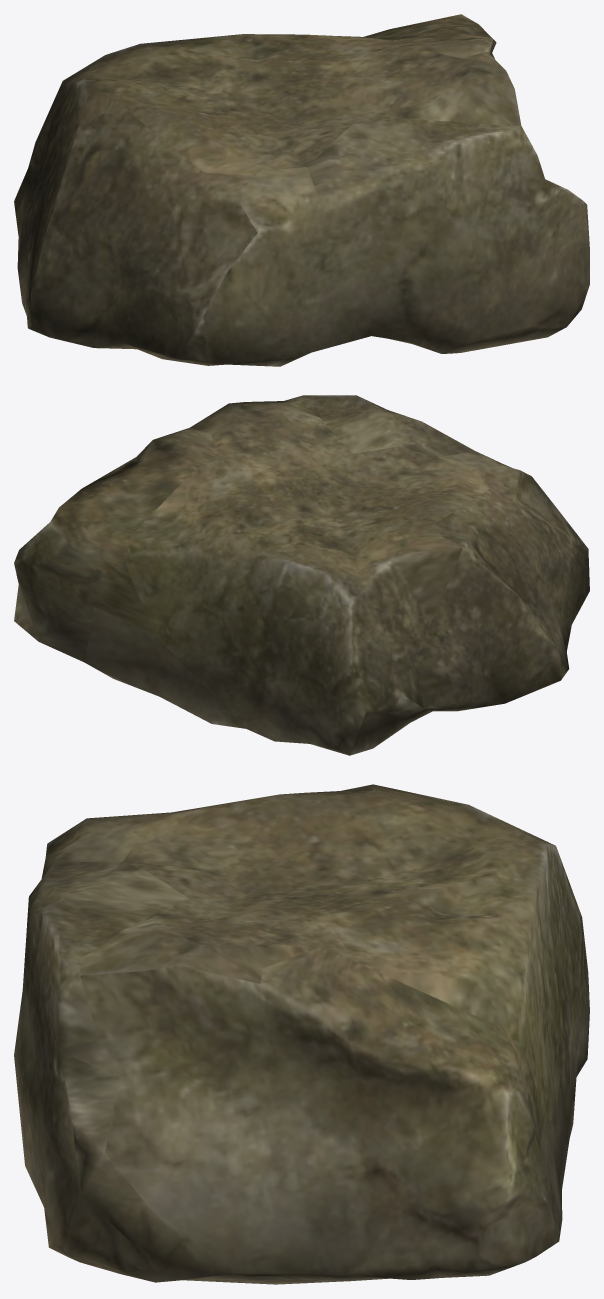
File: rock_02_lod2.glb
3 views of the same model, one above another, from view 1: azimuth 30°, elevation 25°; view 2: azimuth 150°, elevation 25°; view 3: azimuth 270°, elevation 25° (orthographic). The views are drawn at different scales.
Visible parts, largest first — view 1: Rock_02_LOD2; view 2: Rock_02_LOD2; view 3: Rock_02_LOD2.
Part boxes in pixels (x1=…): Rock_02_LOD2: x1=14, y1=14, x2=589, y2=366; Rock_02_LOD2: x1=14, y1=395, x2=589, y2=755; Rock_02_LOD2: x1=14, y1=784, x2=589, y2=1284.
Bounding box in the file's own units: 2.49 × 1.1 × 1.79.
Materials: 1 (1 with a texture image).
